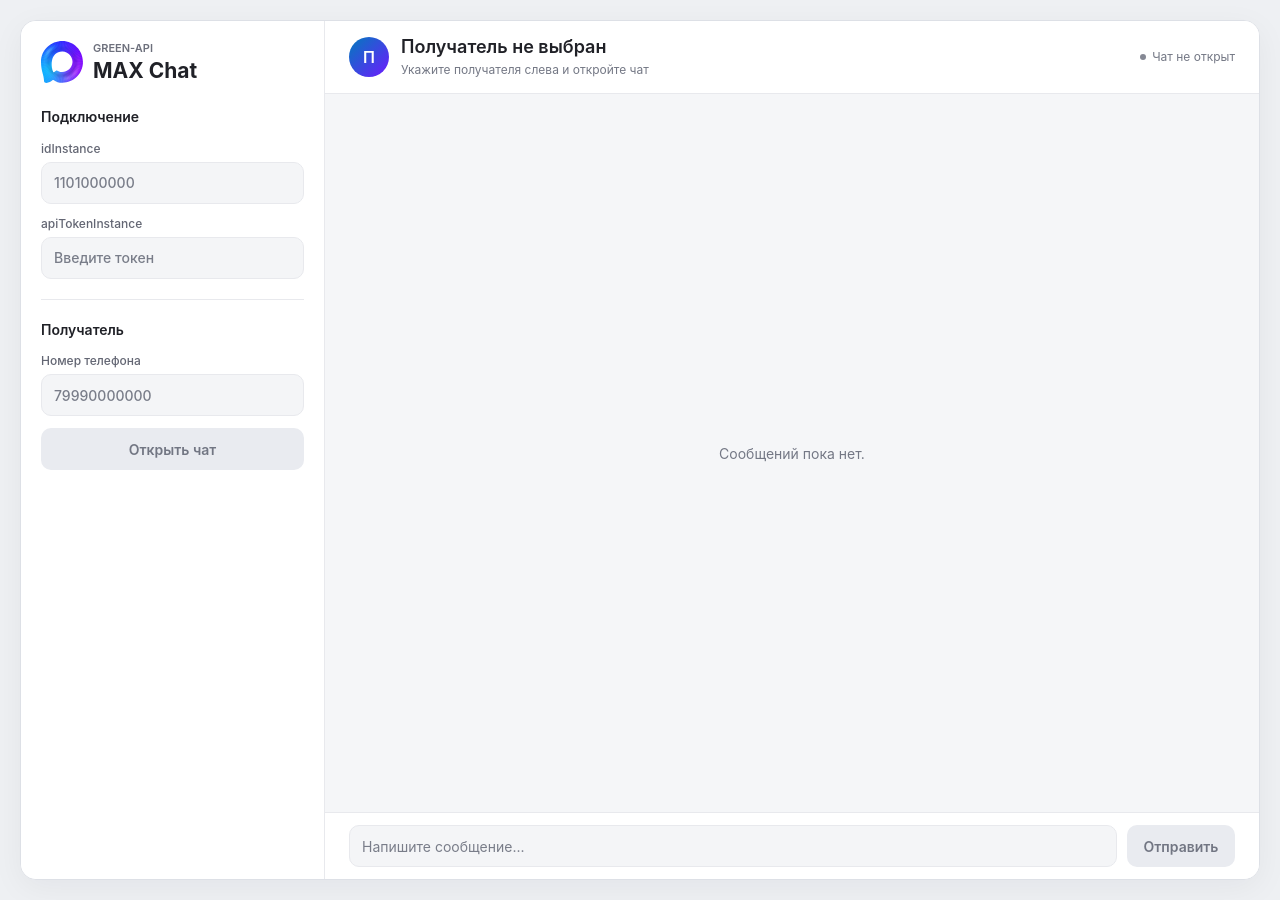
it: sends a message, adds it to history and clears the draft
In the field labelled "idInstance": (172, 183) [41, 162, 304, 204], type "test-instance"
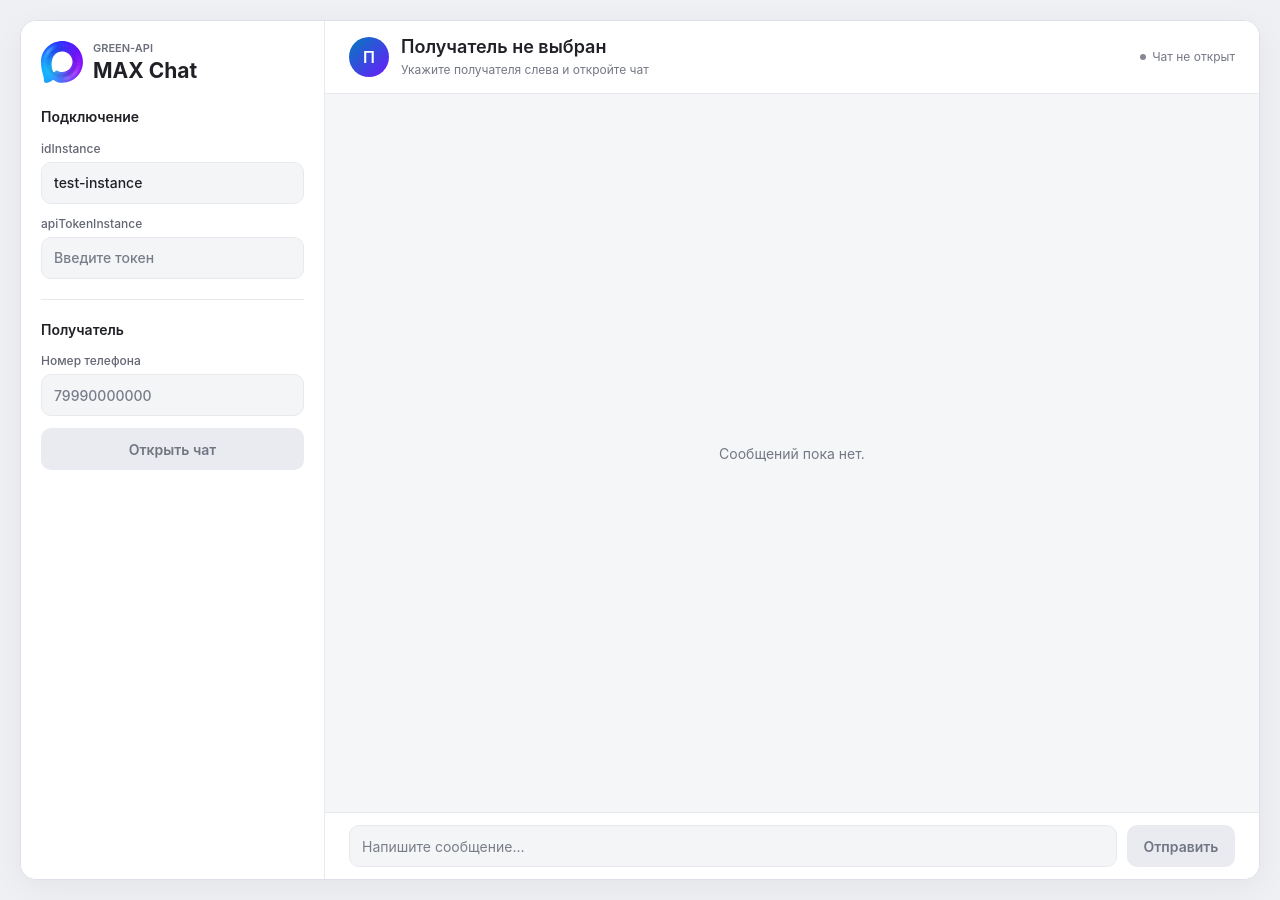
In the password field labelled "apiTokenInstance": (172, 258) [41, 237, 304, 279], type "test-token"
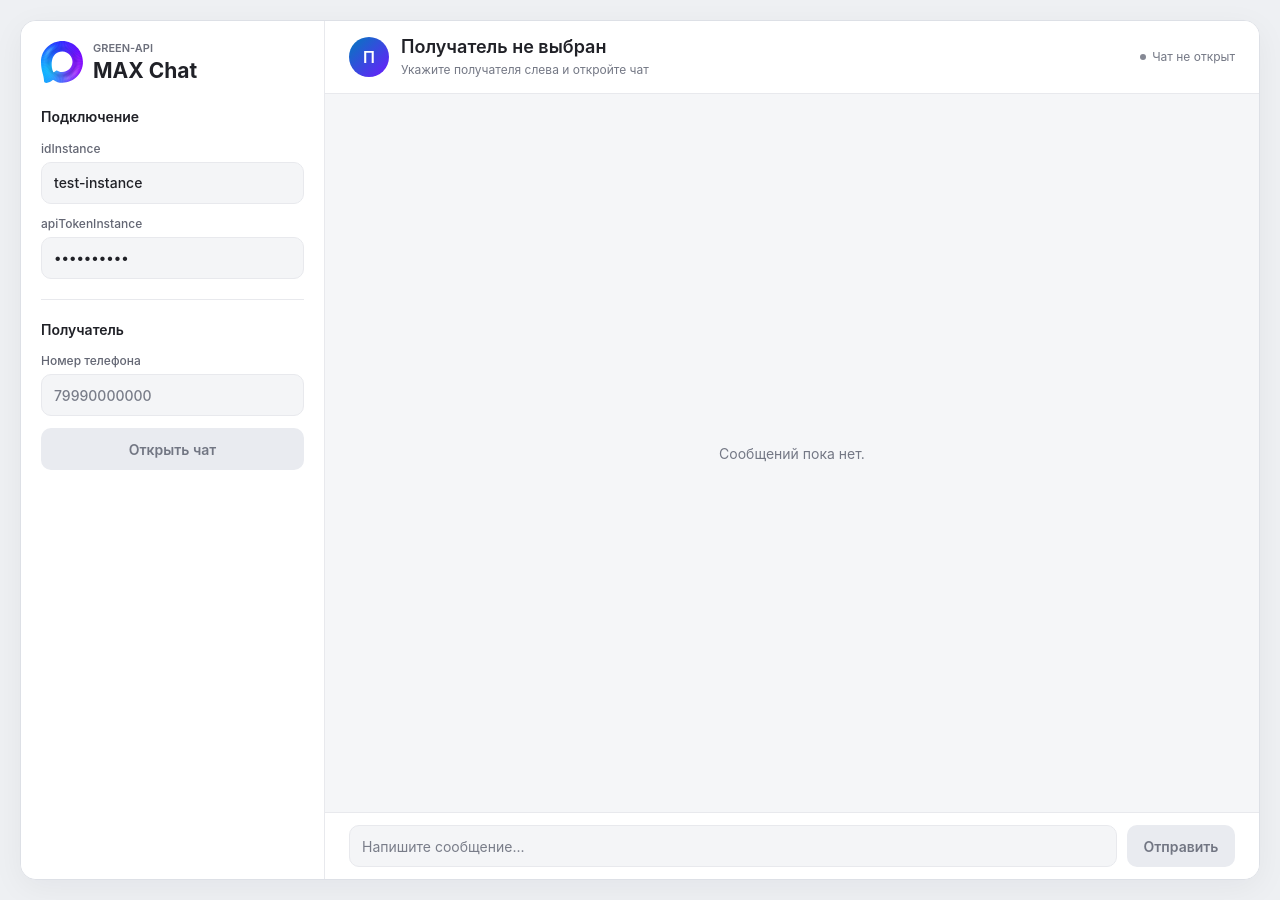
In the field labelled "Номер телефона": (172, 395) [41, 374, 304, 416], type "70000000000"
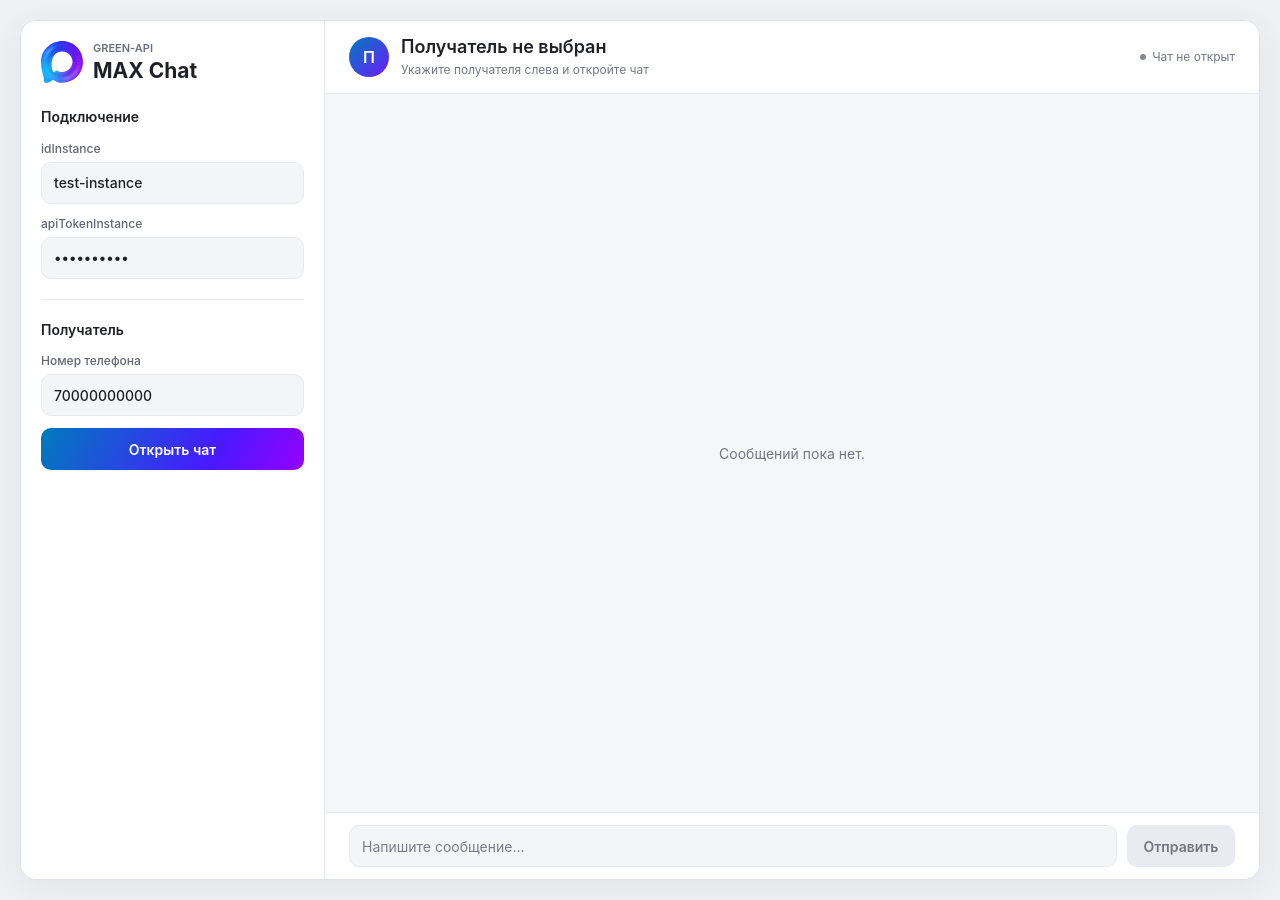
Click the button "Открыть чат": (172, 449) [41, 428, 304, 470]
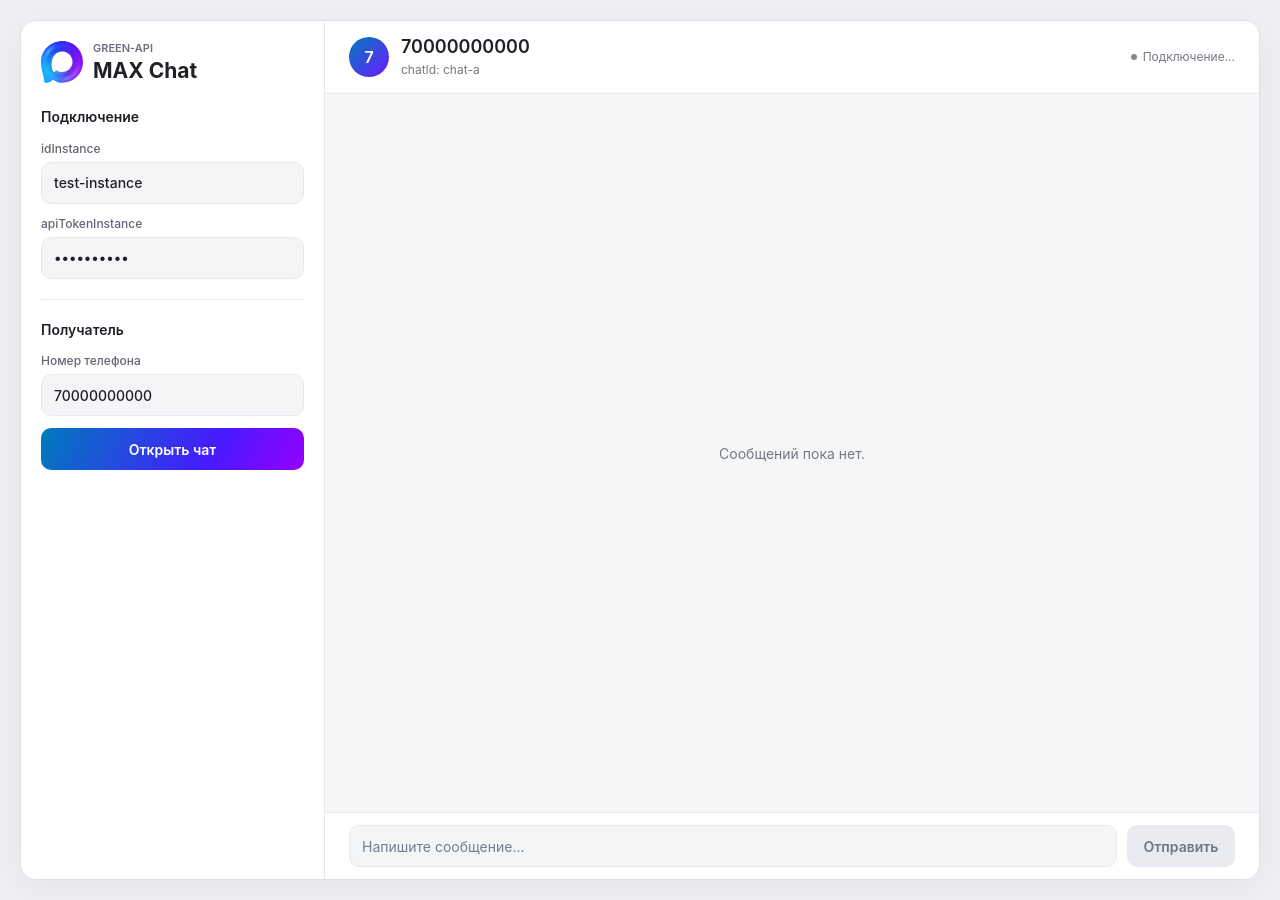
Check: the heading "70000000000" is shown, box [401, 36, 530, 57]
In the field with placeholder "Напишите сообщение...": (733, 846) [349, 825, 1117, 867], type "  Привет!  "
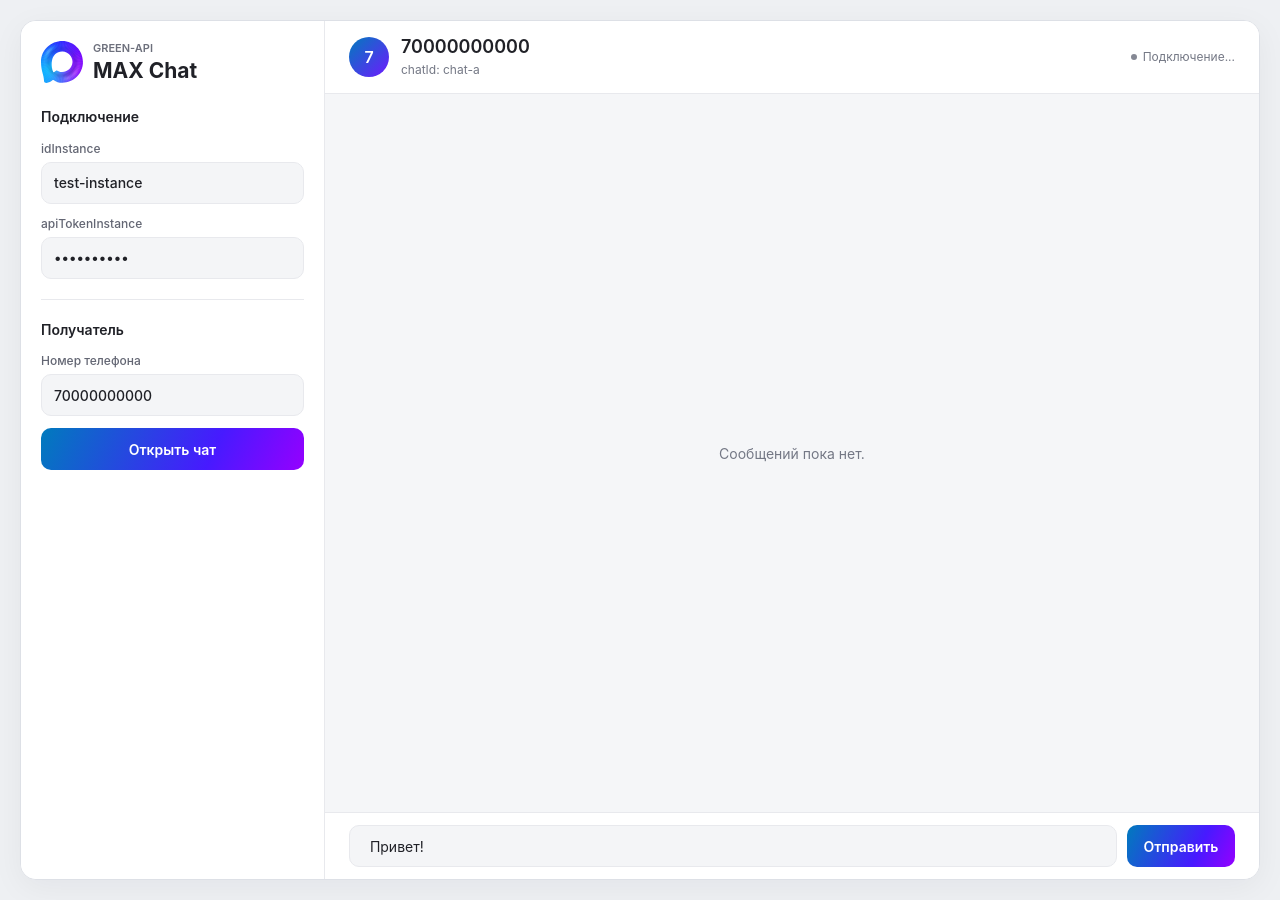
Click the button "Отправить": (1181, 846) [1127, 825, 1235, 867]
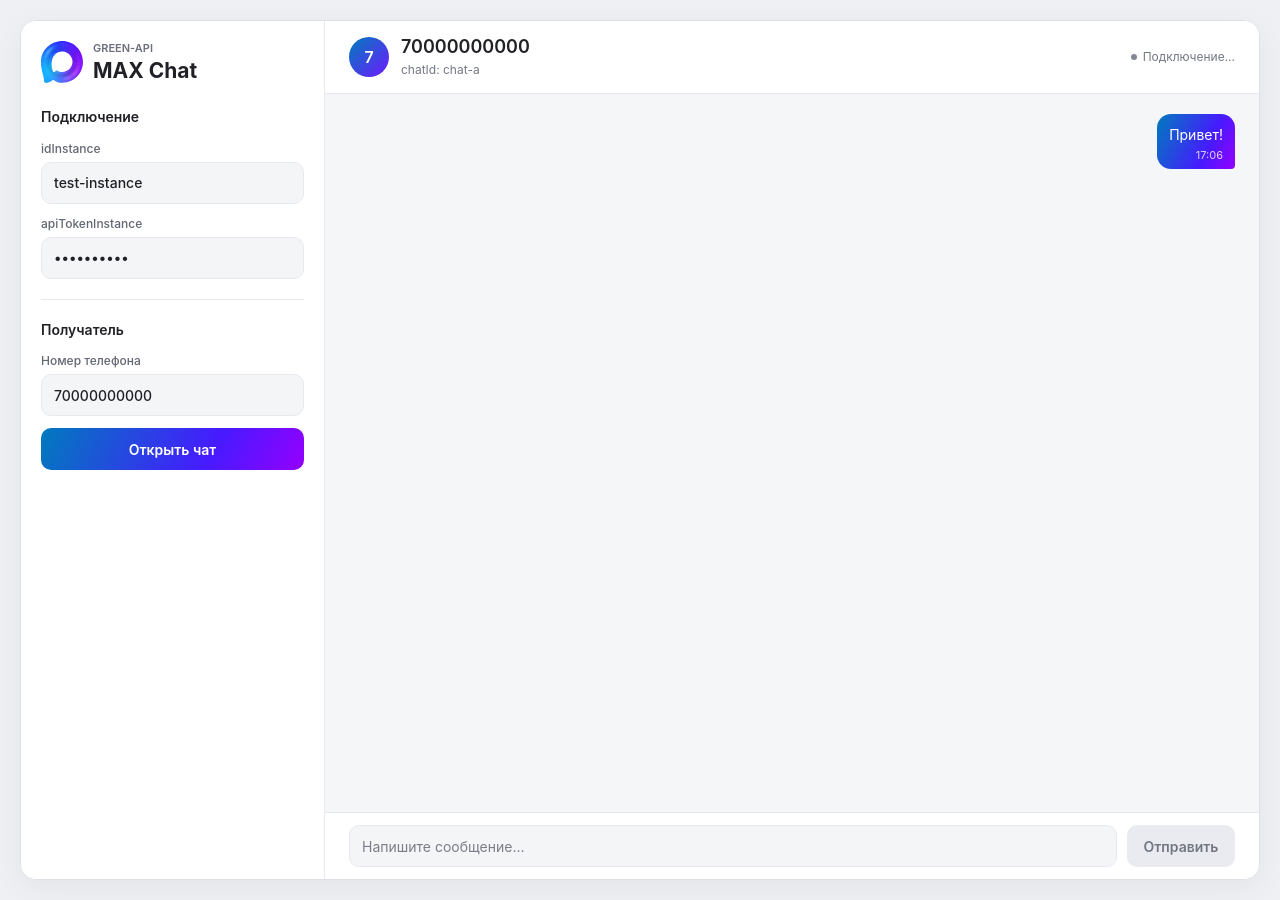
Check: the text "Привет!" is shown, box [1169, 124, 1223, 145]
Check: the field with placeholder "Напишите сообщение..." is empty, box [349, 825, 1117, 867]
Check: the button "Отправить" is disabled, box [1127, 825, 1235, 867]
